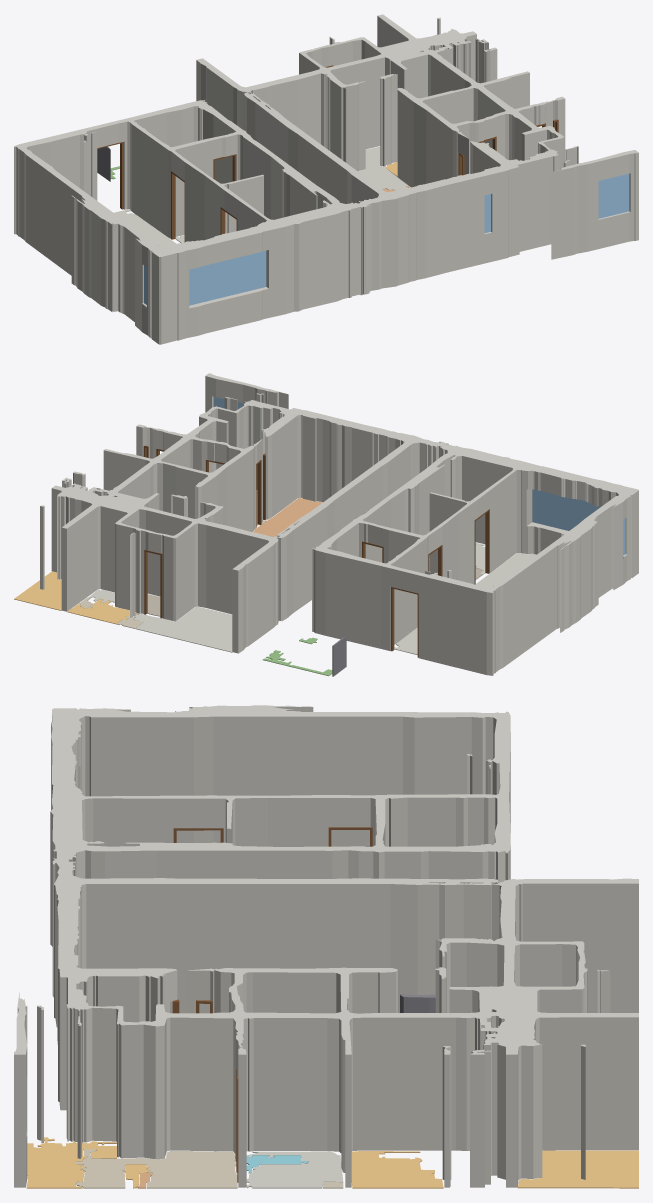
3 renders of one model, top to bottom at view 1: azimuth 30°, elevation 25°; view 2: azimuth 150°, elevation 25°; view 3: azimuth 270°, elevation 25°, orthographic. The views are drawn at different scales.
Visible parts, largest first — view 1: walls, window_11, window_13, floor_35_Undefined, floor_34_Undefined; view 2: walls, floor_37_Undefined, window_11, floor_34_Undefined, floor_11_Living_Room, floor_8_Kitchen, floor_9_Kitchen, railings, door_0, door_7; view 3: walls, floor_18_Entry, floor_8_Kitchen, floor_3_Kitchen, floor_30_Undefined, floor_6_Kitchen.
Boxes of the visible parts, x1=… form: walls: x1=14, y1=14, x2=638, y2=344; window_11: x1=189, y1=250, x2=266, y2=305; window_13: x1=598, y1=173, x2=629, y2=218; floor_35_Undefined: x1=358, y1=146, x2=408, y2=190; floor_34_Undefined: x1=113, y1=209, x2=176, y2=247; walls: x1=40, y1=373, x2=638, y2=675; floor_37_Undefined: x1=133, y1=606, x2=232, y2=652; window_11: x1=532, y1=489, x2=600, y2=530; floor_34_Undefined: x1=394, y1=553, x2=535, y2=654; floor_11_Living_Room: x1=253, y1=498, x2=322, y2=536; floor_8_Kitchen: x1=14, y1=571, x2=61, y2=610; floor_9_Kitchen: x1=67, y1=599, x2=138, y2=624; railings: x1=332, y1=636, x2=346, y2=676; door_0: x1=144, y1=549, x2=162, y2=618; door_7: x1=474, y1=509, x2=489, y2=584; walls: x1=14, y1=705, x2=638, y2=1187; floor_18_Entry: x1=76, y1=1149, x2=237, y2=1188; floor_8_Kitchen: x1=517, y1=1150, x2=638, y2=1188; floor_3_Kitchen: x1=26, y1=1137, x2=116, y2=1188; floor_30_Undefined: x1=246, y1=1151, x2=343, y2=1188; floor_6_Kitchen: x1=351, y1=1151, x2=443, y2=1188.
Bounding box in the file's own units: 15.2 × 2.72 × 11.5.
